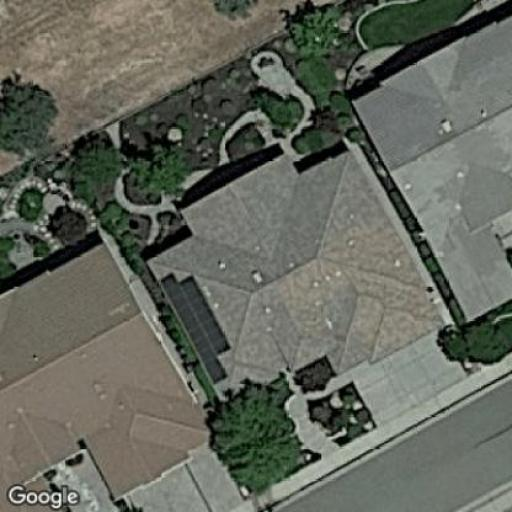solar-panel: (160, 269, 234, 382)
